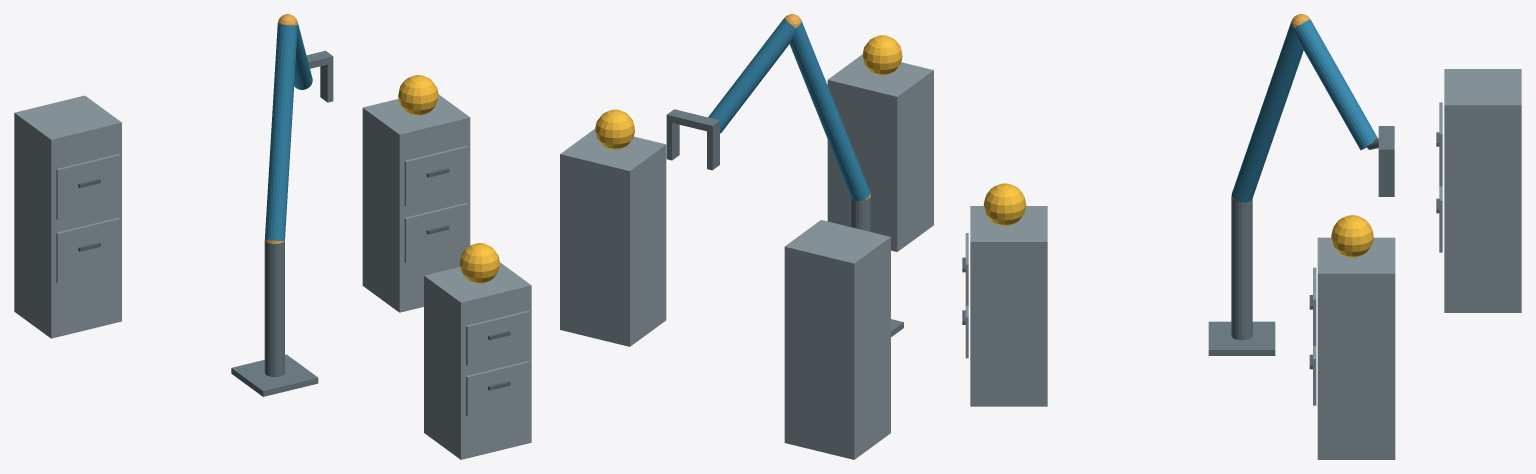
3 renders of one model, left to right at view 1: azimuth 30°, elevation 25°; view 2: azimuth 150°, elevation 25°; view 3: azimuth 270°, elevation 25°, orthographic. The views are drawn at different scales.
Parts seen in each view (by area): view 1: cabinet_3 body, cabinet_2 body, cabinet_1 body, moving link 1, cabinet_3 drawer front.001, cabinet_3 drawer front, cabinet_2 drawer front.001, cabinet_2 drawer front, fixed post, cabinet_1 drawer front.001, cabinet_1 drawer front, pedestal (+3 smaller); view 2: cabinet_3 body, cabinet_2 body, cabinet_1 body, moving link 1, moving link 2, released ball_1, ball ball_2, gripper bridge, fixed post, gripper finger 1, gripper finger -1; view 3: cabinet_3 body, cabinet_2 body, cabinet_1 body, moving link 1, fixed post, moving link 2, pedestal, ball ball_2, released ball_1, gripper finger 1.
Part boxes in pixels (<box>): cabinet_3 body: <box>14,95,121,338</box>; cabinet_2 body: <box>362,94,470,312</box>; cabinet_1 body: <box>424,262,531,459</box>; moving link 1: <box>265,23,297,240</box>; cabinet_3 drawer front.001: <box>56,154,119,219</box>; cabinet_3 drawer front: <box>56,217,119,283</box>; cabinet_2 drawer front.001: <box>404,145,468,206</box>; cabinet_2 drawer front: <box>404,202,468,263</box>; fixed post: <box>264,239,284,376</box>; cabinet_1 drawer front.001: <box>466,310,529,366</box>; cabinet_1 drawer front: <box>466,361,529,416</box>; pedestal: <box>231,354,318,396</box>; cabinet_3 body: <box>784,220,890,459</box>; cabinet_2 body: <box>560,128,666,346</box>; cabinet_1 body: <box>827,54,933,251</box>; moving link 1: <box>789,21,870,200</box>; moving link 2: <box>708,18,795,133</box>; released ball_1: <box>862,35,902,75</box>; ball ball_2: <box>595,109,634,149</box>; gripper bridge: <box>666,109,719,132</box>; fixed post: <box>851,197,870,231</box>; gripper finger 1: <box>666,121,679,160</box>; gripper finger -1: <box>707,127,719,170</box>; cabinet_3 body: <box>1444,69,1521,312</box>; cabinet_2 body: <box>1317,237,1395,459</box>; cabinet_1 body: <box>970,206,1047,406</box>; moving link 1: <box>1231,21,1303,202</box>; fixed post: <box>1231,197,1252,340</box>; moving link 2: <box>1294,19,1377,150</box>; pedestal: <box>1208,321,1275,355</box>; ball ball_2: <box>1331,215,1373,257</box>; released ball_1: <box>983,183,1026,225</box>; gripper finger 1: <box>1378,157,1394,196</box>.
Size of the model in its own units: 1.62 by 1.44 by 2.1.
